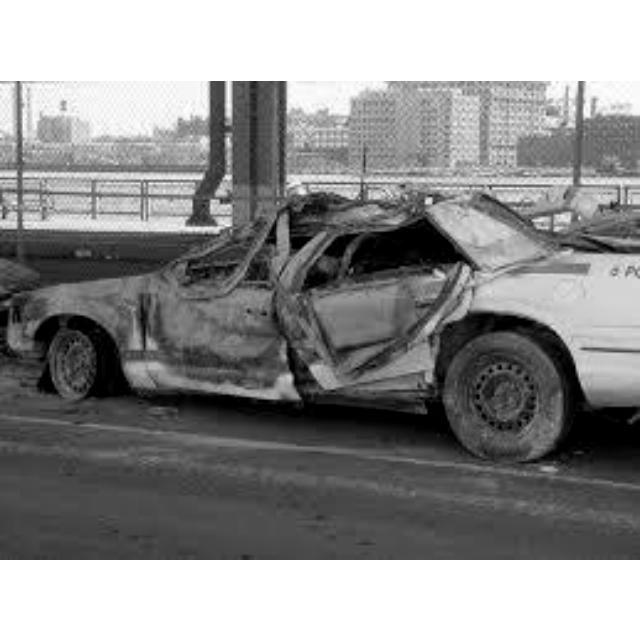Rear-windscreen-Damage: (438, 204, 560, 263)
doorouter-dent: (292, 276, 432, 389), (144, 273, 272, 394)
roof-dent: (265, 189, 442, 231)
